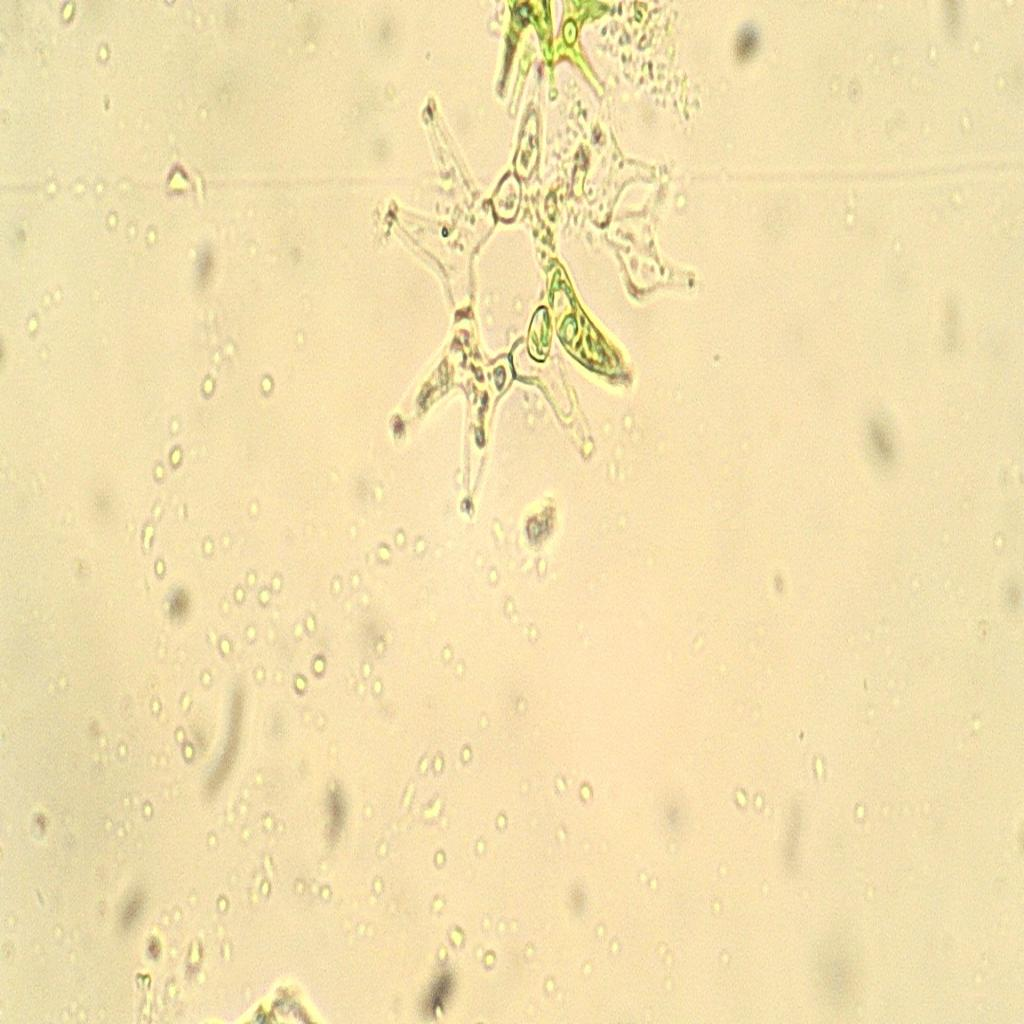Pediastrum_75TH: (368, 47, 654, 543)
